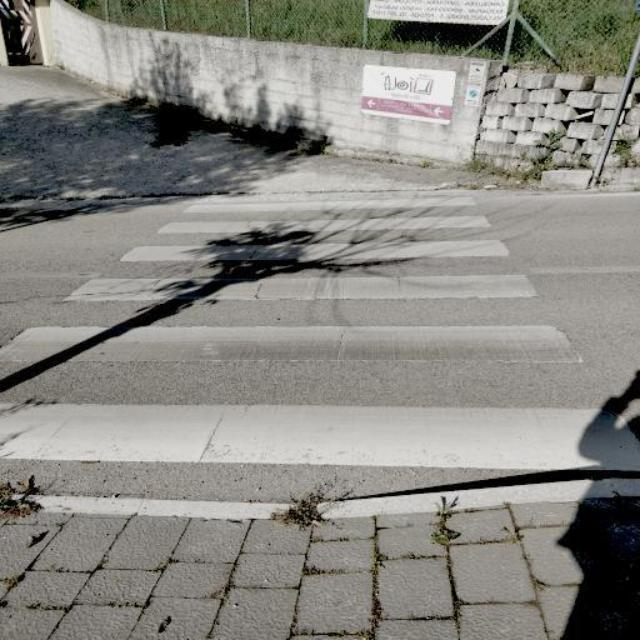sidewalk: (0, 163, 639, 523)
